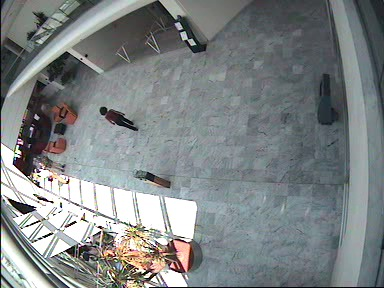person: (99, 105, 138, 130), (35, 154, 64, 172), (35, 169, 69, 183)
